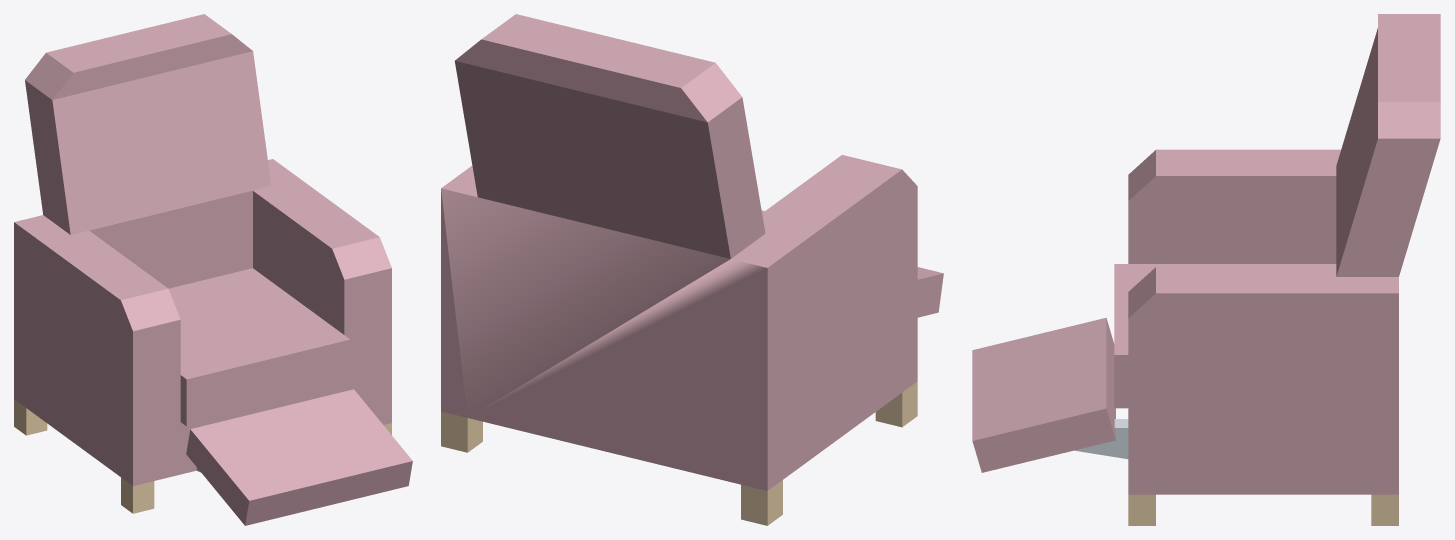
Rendered from loungeChairRelax.glb.
The picture shows the model from 3 angles, left to right: view 1: azimuth 30°, elevation 25°; view 2: azimuth 150°, elevation 25°; view 3: azimuth 270°, elevation 25°; orthographic projection. The views are drawn at different scales.
Visible parts, largest first — view 1: loungeChairRelax(Clone); view 2: loungeChairRelax(Clone); view 3: loungeChairRelax(Clone).
Part boxes in pixels (left/top/right/bottom): loungeChairRelax(Clone): left=14, top=14, right=412, bottom=525; loungeChairRelax(Clone): left=441, top=14, right=943, bottom=525; loungeChairRelax(Clone): left=972, top=14, right=1440, bottom=525.
Bounding box in the file's own units: 0.49 × 0.63 × 0.6747.
